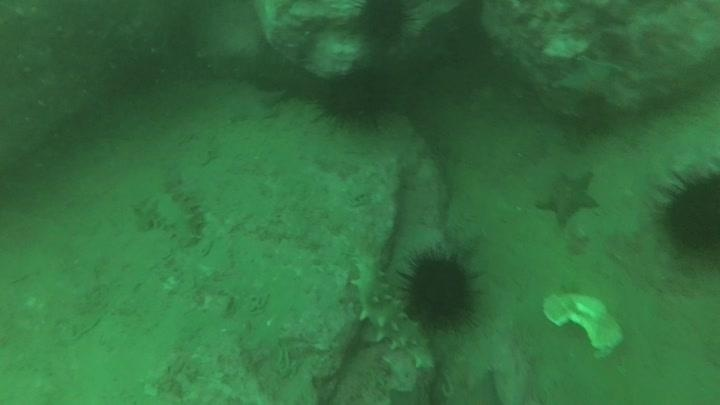echinus: (398, 247, 483, 332), (652, 162, 720, 265), (315, 62, 397, 129), (352, 1, 416, 46)
holothurian: (345, 250, 433, 360), (135, 173, 208, 249)
starfish: (553, 55, 627, 115), (534, 168, 602, 229), (207, 78, 286, 125), (437, 366, 509, 404)
